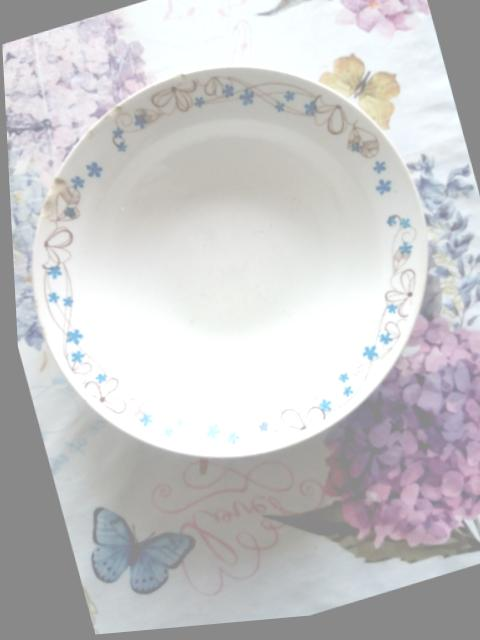Plate: (32, 65, 428, 457)
